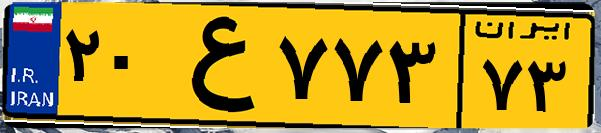0: (110, 28, 158, 98)
2: (57, 26, 110, 100)
3: (385, 28, 445, 110), (525, 38, 570, 115)
7: (270, 28, 330, 110), (330, 28, 385, 110), (475, 38, 525, 113)
ع: (158, 12, 270, 120)
